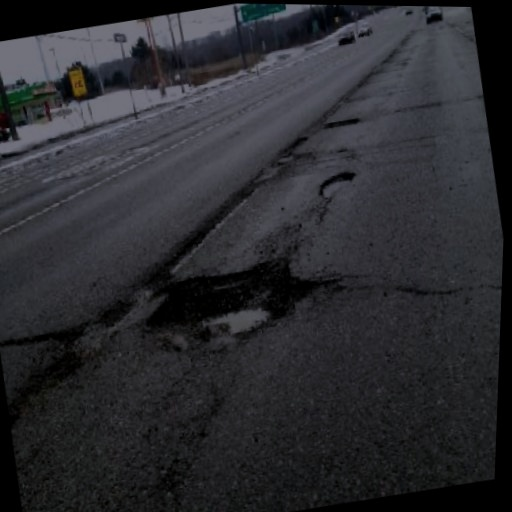pothole: (133, 247, 323, 352), (315, 164, 364, 201), (322, 113, 362, 129)
